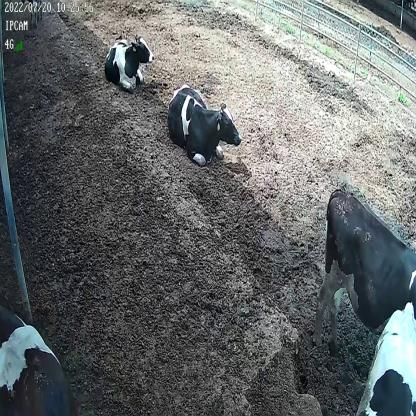cow: (166, 77, 243, 163), (103, 31, 156, 90)
